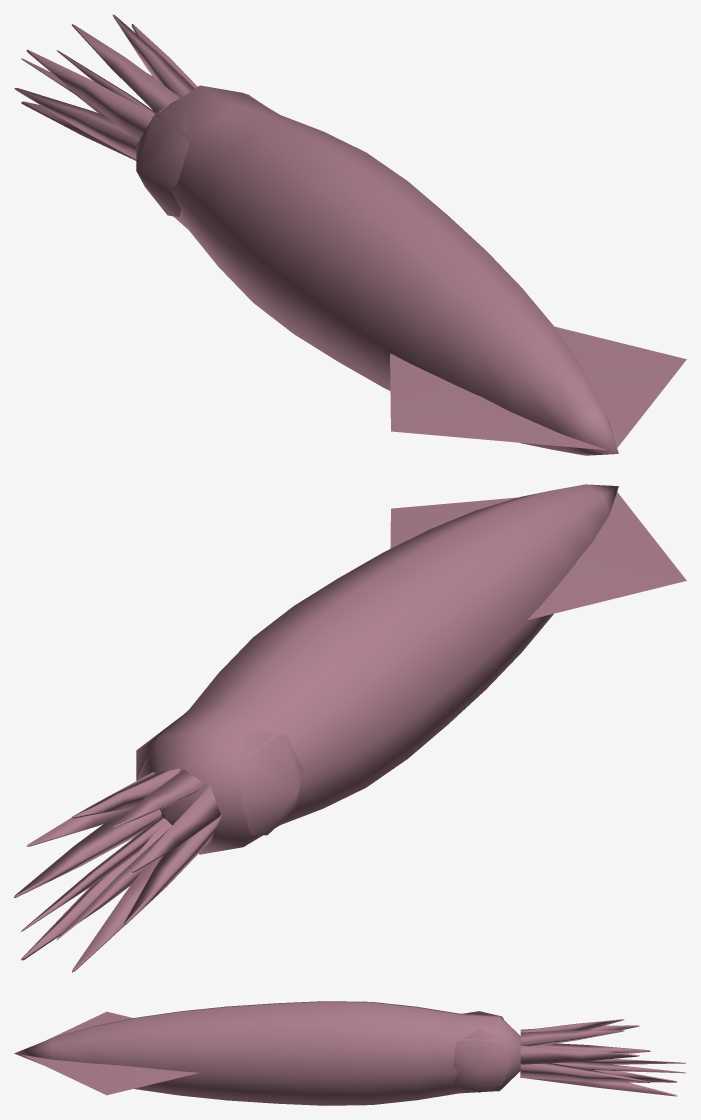
Rendered from firefly_squid_lo.glb.
3 renders of one model, top to bottom at view 1: azimuth 30°, elevation 25°; view 2: azimuth 150°, elevation 25°; view 3: azimuth 270°, elevation 25°, orthographic. The views are drawn at different scales.
Parts seen in each view (by area): view 1: firefly_squid_lo; view 2: firefly_squid_lo; view 3: firefly_squid_lo.
Part boxes in pixels (<box>): firefly_squid_lo: <box>14,14,686,455</box>; firefly_squid_lo: <box>14,484,686,972</box>; firefly_squid_lo: <box>14,1001,685,1105</box>.
Bounding box in the file's own units: 0.0208 × 0.0118 × 0.0706.
